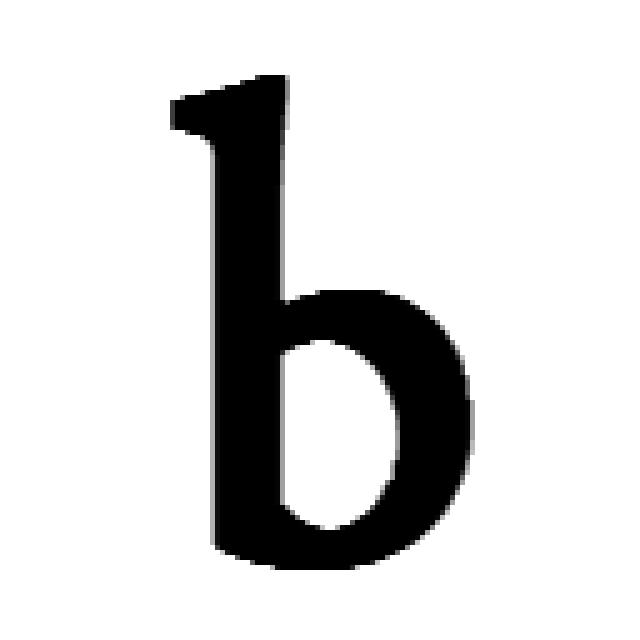B: (170, 75, 475, 575)
